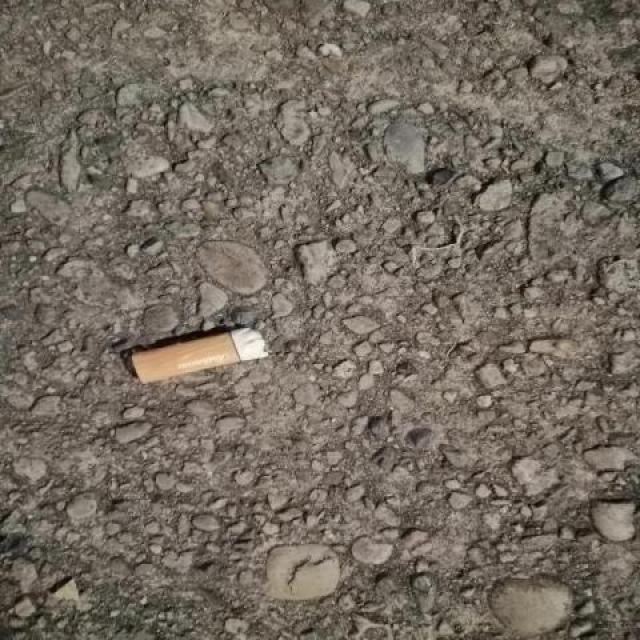non-organic waste: (125, 317, 271, 391)
